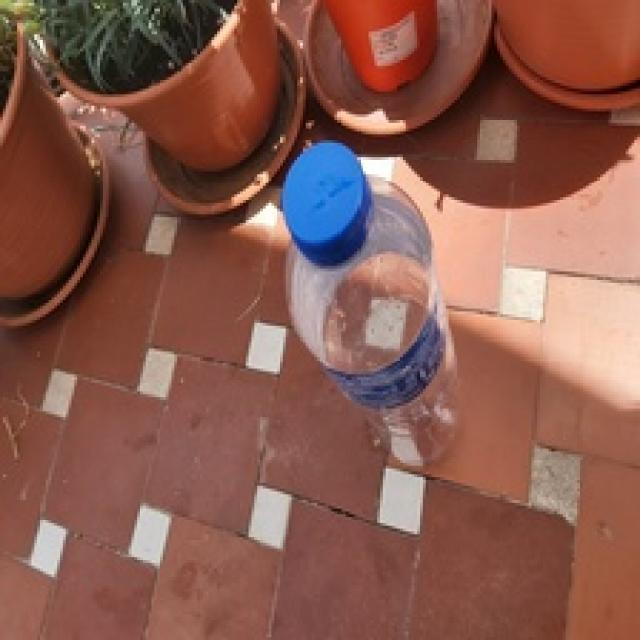Plastic: (284, 138, 462, 468)
